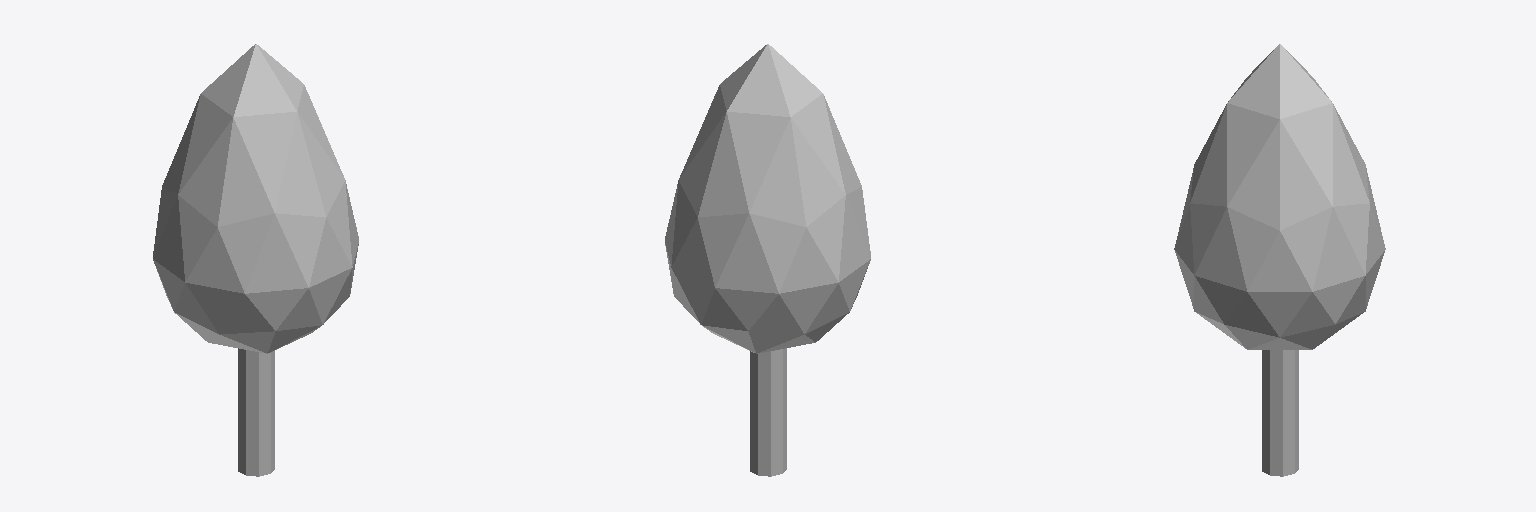
File: Simple_Tree_5.obj
3 renders of one model, left to right at view 1: azimuth 30°, elevation 25°; view 2: azimuth 150°, elevation 25°; view 3: azimuth 270°, elevation 25°, orthographic.
Parts seen in each view (by area): view 1: Simple_Tree_5_Cylinder.002; view 2: Simple_Tree_5_Cylinder.002; view 3: Simple_Tree_5_Cylinder.002.
Part boxes in pixels (left/top/right/bottom): Simple_Tree_5_Cylinder.002: left=153, top=44, right=358, bottom=476; Simple_Tree_5_Cylinder.002: left=665, top=44, right=870, bottom=476; Simple_Tree_5_Cylinder.002: left=1174, top=44, right=1385, bottom=476.
Bounding box in the file's own units: 3.07 × 7.16 × 3.23.